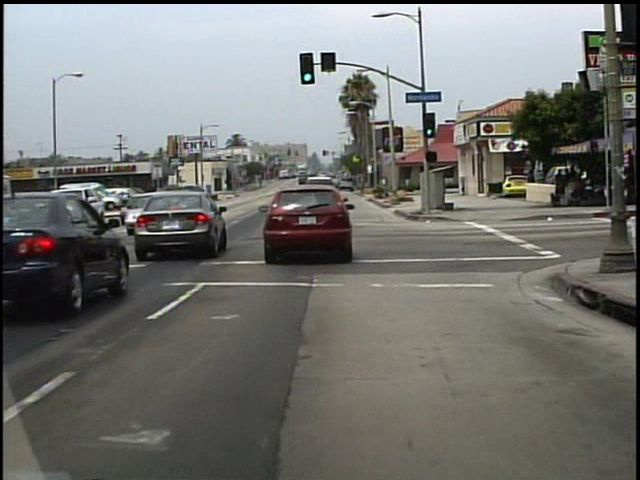person: (523, 167, 538, 203)
